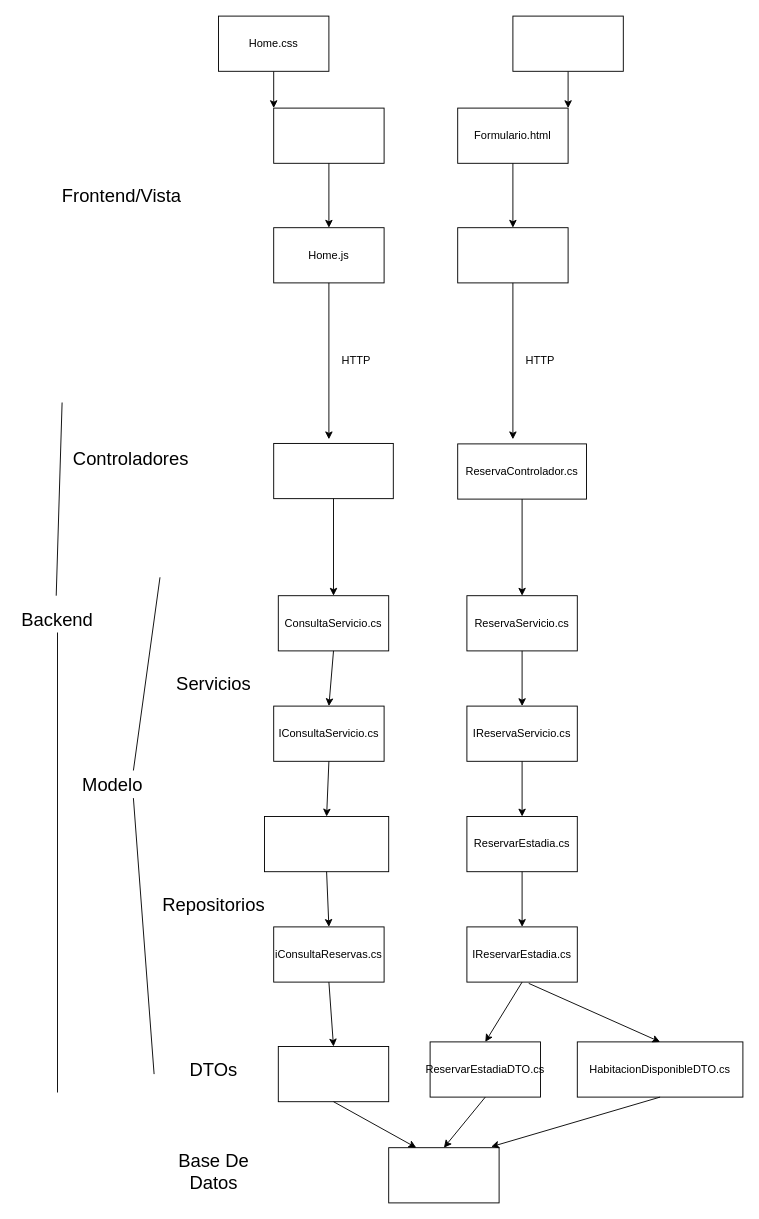
Some shapes in this 759 by 1219 pixel diagram are drawn without their labels. Each missing label, with the centre of its shape:
ConsultaControlador.cs: (x=333, y=471)
ConsultaReservas.cs: (x=326, y=844)
Formulario.css: (x=567, y=43)
Formulario.js: (x=512, y=255)
Home.html: (x=328, y=135)
REC: (x=443, y=1175)
VisualizacionDTO.cs: (x=333, y=1074)
